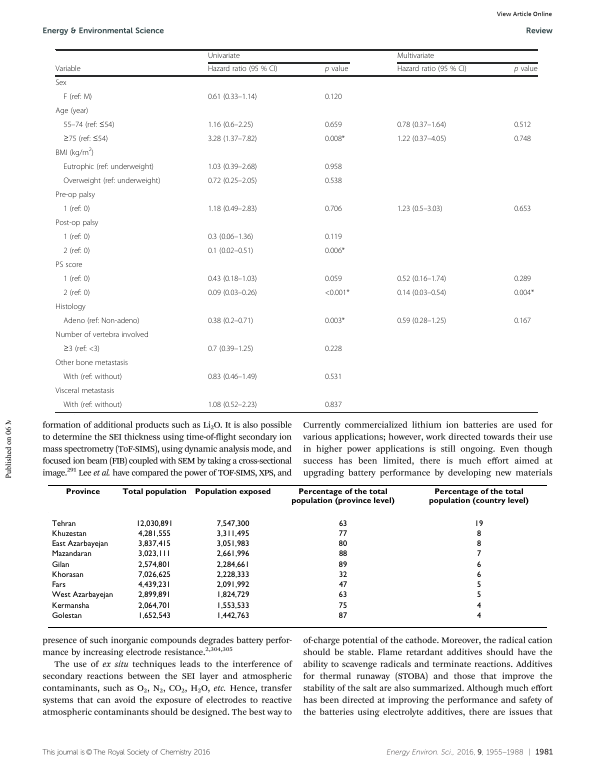borderless: (54, 48, 538, 412), (47, 483, 547, 627)
cell: (290, 488, 395, 506), (428, 488, 529, 506), (62, 176, 161, 186), (55, 330, 149, 340), (62, 162, 155, 172), (62, 316, 140, 326), (55, 358, 129, 368), (396, 65, 468, 75), (207, 65, 278, 75), (194, 488, 271, 497), (62, 372, 123, 382), (62, 400, 123, 410), (55, 386, 115, 396), (121, 488, 187, 497), (50, 591, 114, 600), (50, 540, 109, 549), (62, 120, 115, 130), (207, 92, 258, 102), (396, 120, 447, 130), (207, 134, 258, 144), (396, 134, 447, 144), (207, 162, 258, 172), (207, 176, 258, 186), (207, 204, 258, 214), (207, 274, 258, 284), (396, 274, 447, 284), (207, 288, 258, 298), (396, 288, 447, 298), (396, 316, 447, 326), (207, 372, 258, 382), (207, 400, 258, 410), (207, 120, 254, 130), (62, 134, 109, 144), (396, 204, 443, 214), (207, 232, 254, 242), (207, 246, 254, 256), (207, 316, 254, 326), (207, 344, 254, 354), (55, 147, 95, 158), (55, 218, 99, 228), (55, 190, 96, 200), (50, 601, 90, 611), (62, 344, 101, 354), (135, 519, 173, 529), (50, 550, 92, 559), (50, 529, 87, 539), (396, 52, 435, 61), (215, 519, 250, 529), (215, 529, 250, 539), (215, 560, 250, 570), (215, 570, 250, 580), (215, 601, 250, 611), (215, 611, 250, 621), (55, 106, 89, 116), (137, 529, 171, 539), (137, 560, 171, 570), (50, 570, 84, 580), (137, 570, 171, 580), (137, 601, 171, 611), (137, 611, 171, 621), (50, 611, 82, 621), (65, 488, 100, 497), (215, 540, 250, 549), (215, 550, 250, 559), (215, 581, 250, 590), (215, 591, 250, 600), (62, 92, 93, 102), (55, 302, 86, 312), (207, 52, 241, 61), (137, 540, 171, 549), (137, 550, 171, 559), (137, 581, 171, 590), (137, 591, 171, 600), (62, 204, 91, 214), (62, 232, 91, 242), (62, 246, 91, 256), (62, 274, 91, 284), (62, 288, 91, 298), (55, 260, 83, 270), (324, 288, 351, 298), (55, 65, 81, 75), (50, 519, 76, 529), (324, 65, 349, 75), (513, 65, 538, 75), (324, 134, 346, 144), (324, 246, 346, 256), (513, 288, 535, 298), (324, 316, 346, 326), (50, 560, 70, 570), (324, 92, 343, 102), (324, 120, 343, 130), (513, 120, 532, 130), (513, 134, 532, 144), (324, 162, 343, 172), (324, 176, 343, 186), (324, 204, 343, 214), (513, 204, 532, 214), (324, 232, 343, 242), (324, 274, 343, 284), (513, 274, 532, 284), (513, 316, 532, 326), (324, 344, 343, 354), (324, 372, 343, 382), (324, 400, 343, 410), (50, 581, 66, 590), (55, 78, 67, 88), (337, 519, 348, 529), (473, 519, 484, 529), (337, 529, 348, 539), (337, 560, 348, 570), (337, 570, 348, 580), (337, 601, 348, 611), (337, 611, 348, 621), (337, 540, 348, 549), (337, 550, 348, 559), (337, 581, 348, 590), (337, 591, 348, 600), (475, 570, 482, 580), (475, 611, 482, 621), (475, 540, 482, 549), (475, 550, 482, 559), (475, 581, 482, 590), (475, 591, 482, 600), (475, 529, 481, 539), (475, 560, 481, 570), (475, 601, 481, 611)
